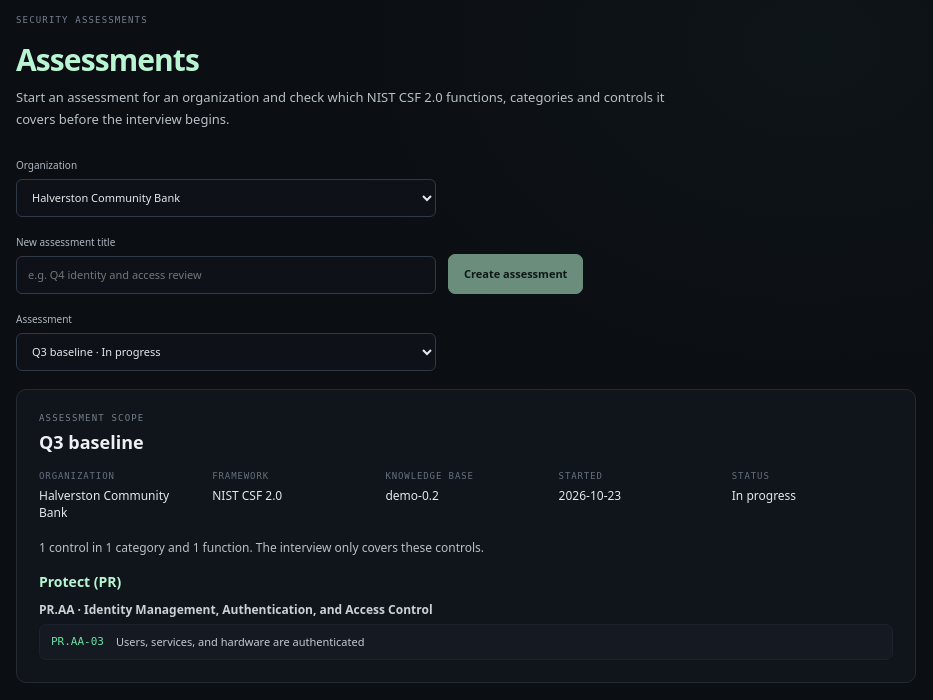
AssessmentWorkspace › ignores a create that finishes after switching organization
Expected: the heading "Q3 baseline" is shown, [39,430,144,454]
Type "Q4" into the field labelled "New assessment title" at (226, 275), box [16,256,436,294]
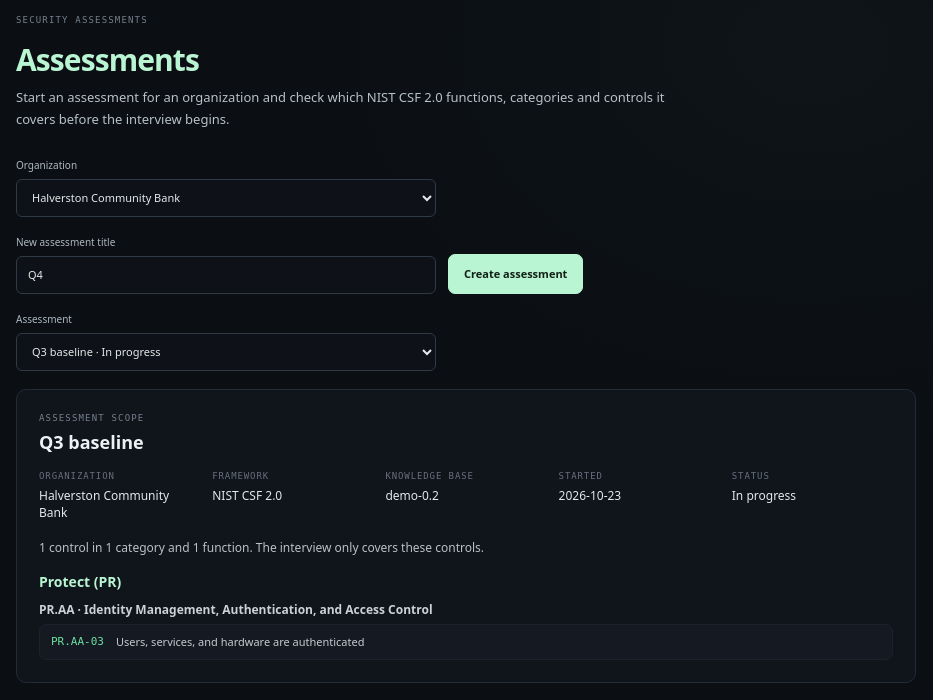
Click the button "Create assessment" at (516, 274), box [448,254,583,294]
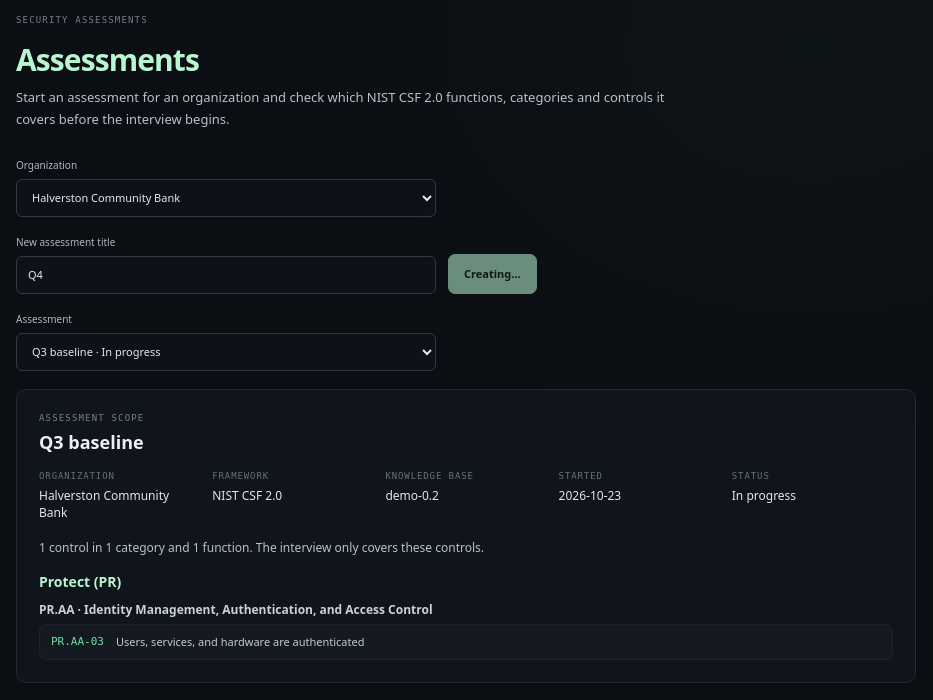
Select "Beta Industries" in the dropdown labelled "Organization" at (226, 198), box [16,179,436,217]
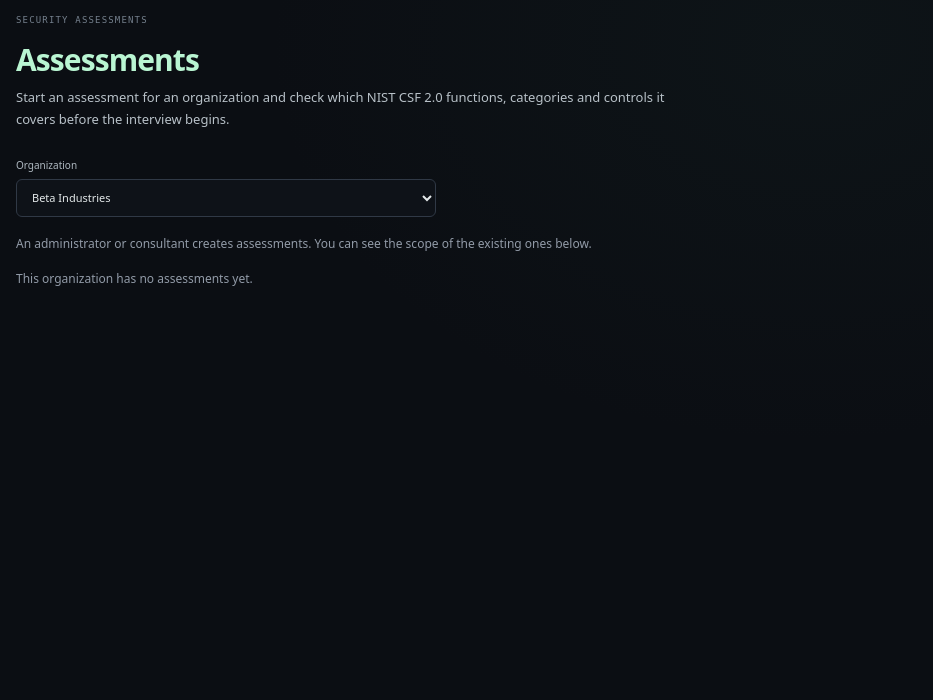
Expected: the text "This organization has no assessments yet." is shown, [16,270,253,287]
